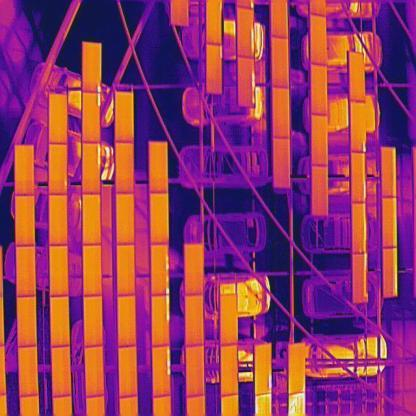Diode: (82, 92, 102, 142), (82, 142, 101, 194), (152, 294, 170, 347), (152, 346, 170, 398), (151, 245, 169, 296), (236, 7, 254, 58), (254, 343, 272, 394), (238, 56, 255, 106), (208, 44, 224, 95), (351, 102, 366, 154)
Hotspot: (82, 42, 102, 93)
Normal: (48, 144, 68, 196), (14, 144, 34, 196), (82, 194, 102, 246), (83, 244, 102, 298), (184, 244, 204, 295), (17, 245, 36, 298), (186, 344, 204, 399), (115, 92, 134, 144), (117, 245, 136, 296), (219, 294, 238, 345), (272, 87, 290, 140), (50, 194, 68, 247), (186, 294, 204, 347), (50, 295, 68, 348), (220, 345, 238, 398), (120, 345, 138, 398), (17, 298, 36, 348), (150, 142, 168, 194), (16, 195, 34, 247), (86, 346, 104, 398), (272, 36, 290, 88), (50, 93, 68, 144), (50, 247, 68, 298), (84, 296, 102, 347), (118, 296, 136, 347), (53, 346, 71, 397), (19, 347, 37, 398), (116, 194, 134, 244), (151, 194, 168, 244), (288, 342, 304, 395), (311, 64, 327, 116), (274, 136, 290, 188), (116, 142, 132, 194), (312, 115, 328, 166), (312, 166, 328, 217), (382, 247, 398, 298), (310, 15, 326, 66), (206, 0, 223, 44), (382, 199, 397, 248), (382, 146, 396, 198), (352, 254, 367, 302), (350, 53, 364, 102), (352, 154, 366, 202), (352, 204, 366, 252)
